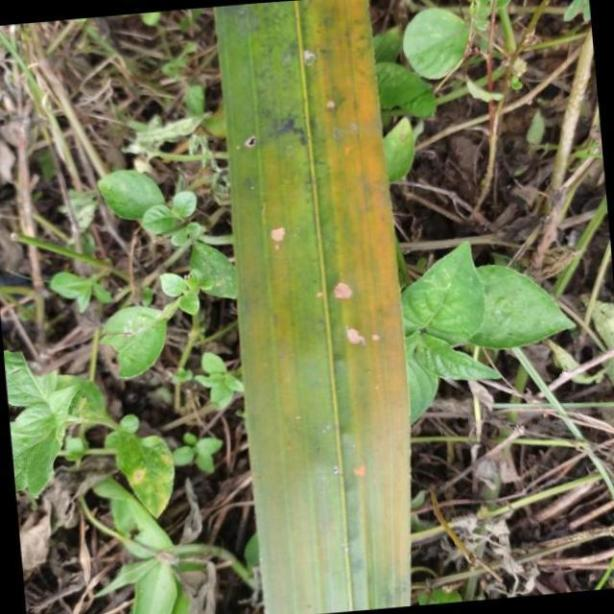Megnesium: (214, 1, 415, 614)
